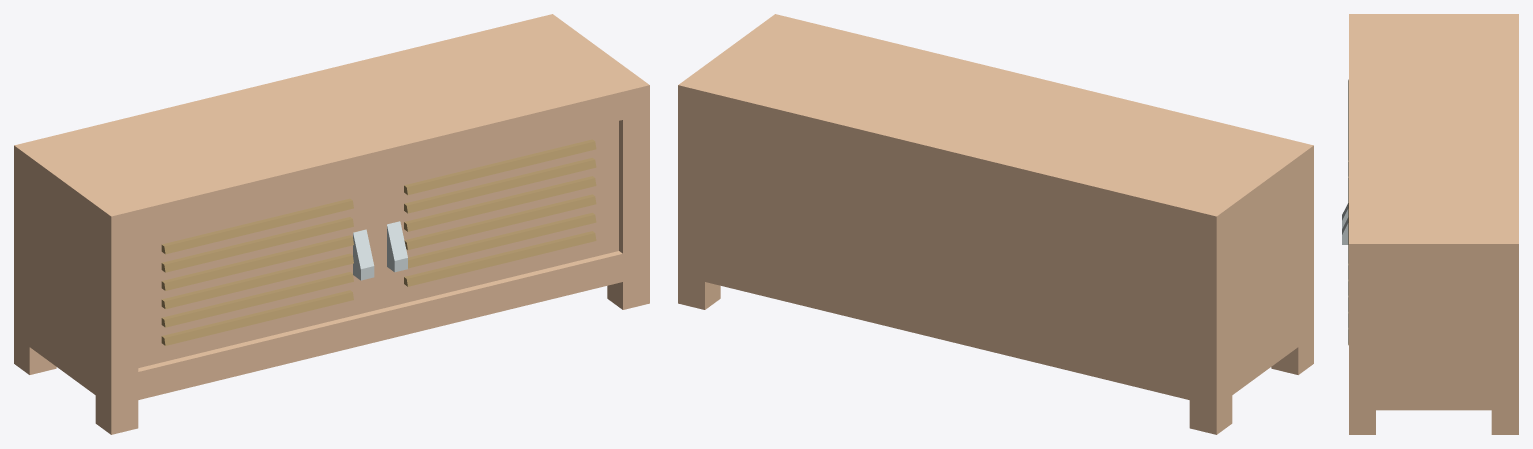
Rendered from louvered.glb.
3 renders of one model, left to right at view 1: azimuth 30°, elevation 25°; view 2: azimuth 150°, elevation 25°; view 3: azimuth 270°, elevation 25°, orthographic. The views are drawn at different scales.
Visible parts, largest first — view 1: cabinetTelevisionDoors(Clone), doorRight, doorLeft; view 2: cabinetTelevisionDoors(Clone); view 3: cabinetTelevisionDoors(Clone), doorRight, doorLeft.
Boxes of the visible parts, x1,y1,x2,y2 form: cabinetTelevisionDoors(Clone): (14, 14, 649, 434); doorRight: (376, 121, 618, 309); doorLeft: (138, 180, 376, 367); cabinetTelevisionDoors(Clone): (678, 14, 1313, 434); cabinetTelevisionDoors(Clone): (1349, 14, 1518, 434); doorRight: (1342, 183, 1348, 345); doorLeft: (1342, 79, 1348, 228).
Size of the model in its own units: 0.8 by 0.31 by 0.26.
